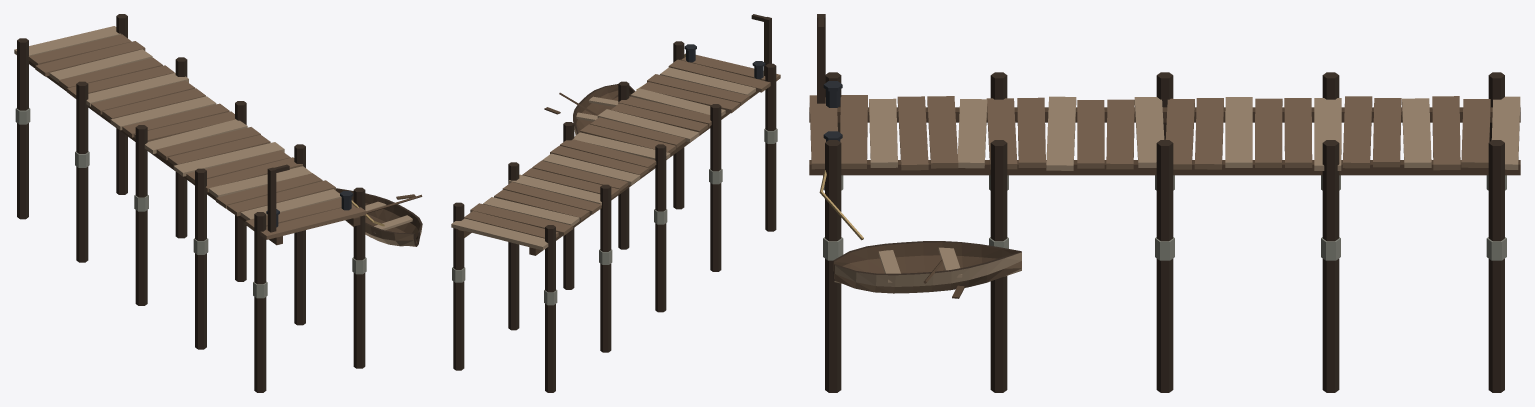
Rendered from dock.glb.
The picture shows the model from 3 angles, left to right: view 1: azimuth 30°, elevation 25°; view 2: azimuth 150°, elevation 25°; view 3: azimuth 270°, elevation 25°; orthographic projection. The views are drawn at different scales.
Visible parts, largest first — view 1: dock, rowboat; view 2: dock, rowboat; view 3: dock, rowboat.
Part boxes in pixels (<box>): dock: <box>14,14,384,392</box>; rowboat: <box>336,188,422,246</box>; dock: <box>451,14,780,392</box>; rowboat: <box>544,84,635,135</box>; dock: <box>809,14,1520,392</box>; rowboat: <box>833,241,1021,298</box>.
Bounding box in the file's own units: 5.57 × 5.8 × 12.
1 material, 1 textured.
